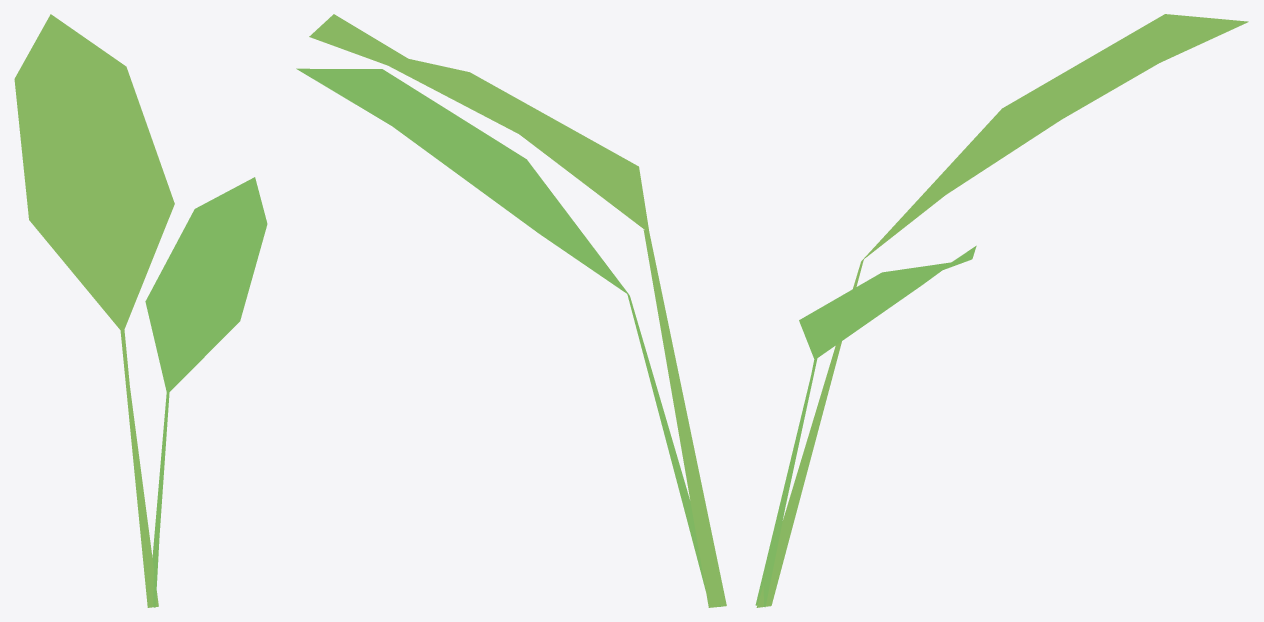
The model's file is Plant_j_OneS_07.fbx.
3 views of the same model, side by side, from view 1: azimuth 30°, elevation 25°; view 2: azimuth 150°, elevation 25°; view 3: azimuth 270°, elevation 25° (orthographic). The views are drawn at different scales.
Parts seen in each view (by area): view 1: Plant_j_OneS_07; view 2: Plant_j_OneS_07; view 3: Plant_j_OneS_07.
Part boxes in pixels (x1,y1,x2,y2): Plant_j_OneS_07: (14, 14, 267, 607); Plant_j_OneS_07: (296, 14, 726, 607); Plant_j_OneS_07: (755, 14, 1248, 607).
Size of the model in its own units: 0.1402 by 0.2787 by 0.1974.
